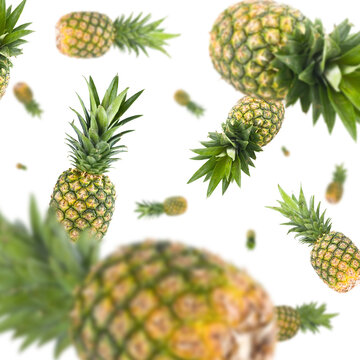Pineapple: (1, 192, 284, 358), (211, 1, 360, 142), (46, 67, 145, 261), (185, 82, 287, 191), (264, 180, 360, 294), (56, 9, 179, 61)
